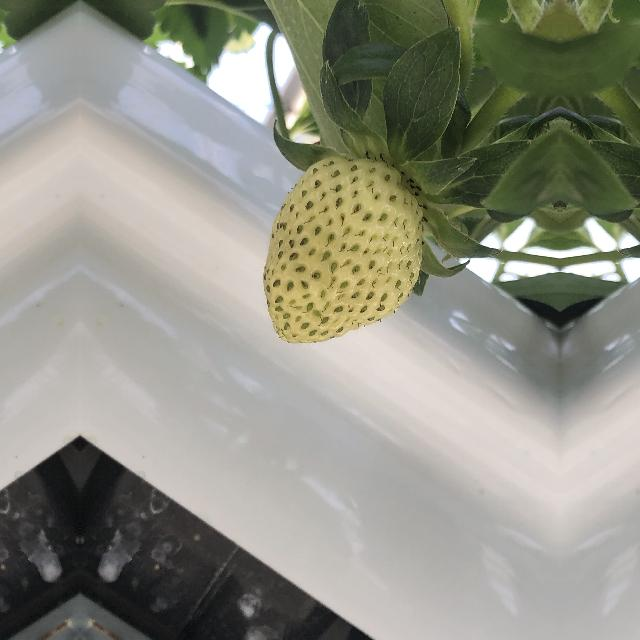Health_25: (264, 146, 430, 344)
